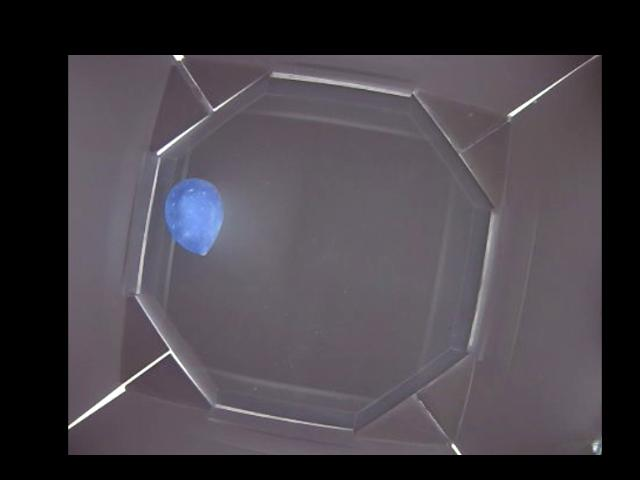Potato: (161, 178, 224, 255)
